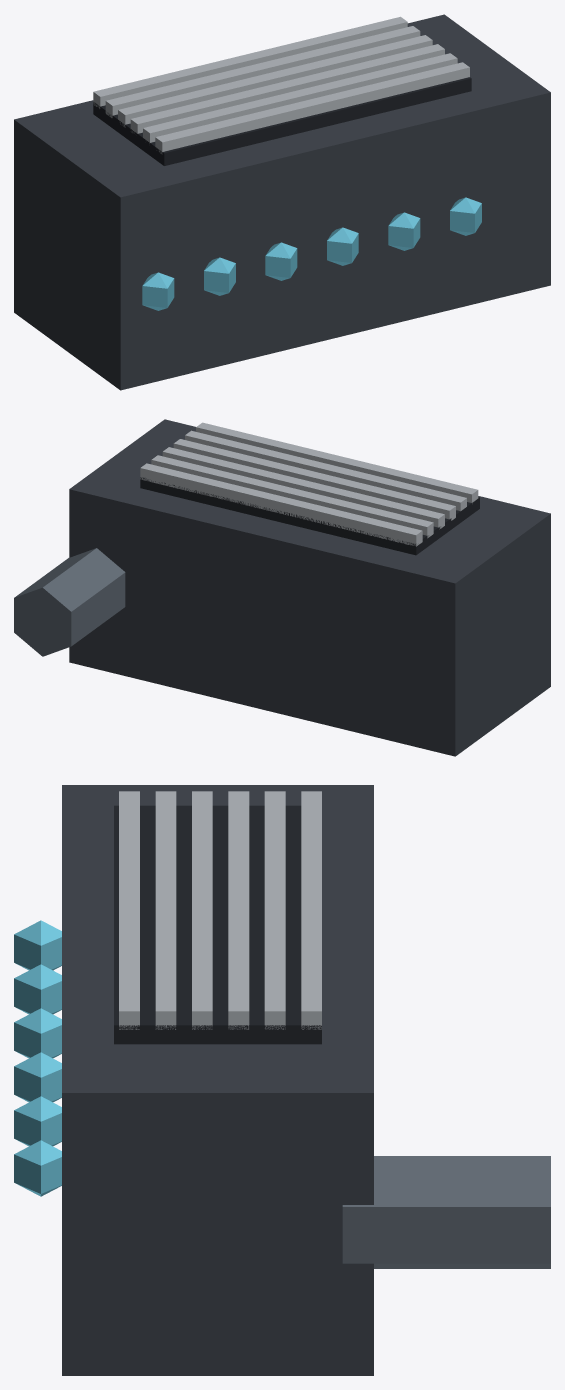
File: droid-vocoder-champion.glb
The picture shows the model from 3 angles, top to bottom: view 1: azimuth 30°, elevation 25°; view 2: azimuth 150°, elevation 25°; view 3: azimuth 270°, elevation 25°; orthographic projection. The views are drawn at different scales.
Parts seen in each view (by area): view 1: m; view 2: m; view 3: m.
Part boxes in pixels (left/top/right/bottom): m: left=14, top=14, right=550, bottom=390; m: left=14, top=419, right=550, bottom=756; m: left=14, top=785, right=550, bottom=1375.
Bounding box in the file's own units: 0.1 × 0.0484 × 0.0735.
